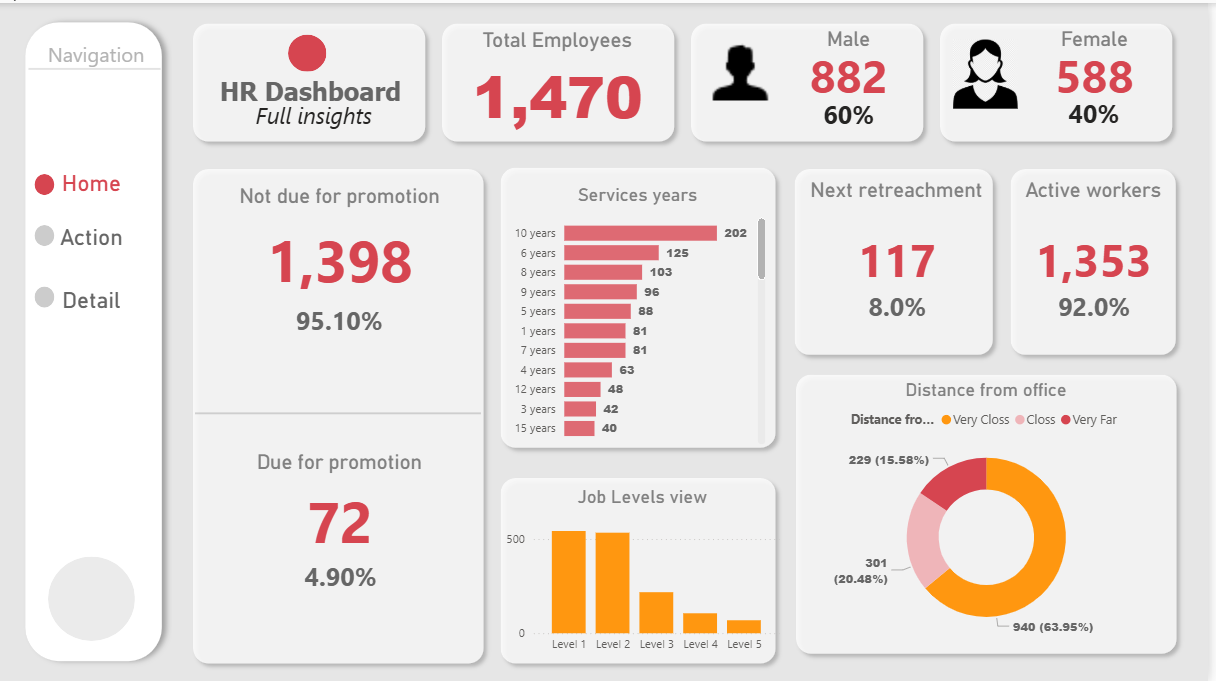

This screenshot's page, from the dashboard's own definition file:
{"tool":"powerbi","page":{"name":"Home","canvas":[1280,720],"ordinal":0},"visuals":[{"type":"shape","box":[16.5,9.6,166.5,699.2],"z":0},{"type":"shape","box":[195.4,12.4,264.3,143.1],"z":1000},{"type":"shape","box":[459.7,12.4,264.3,143.1],"z":2000},{"type":"shape","box":[724,12.4,264.3,143.1],"z":3000},{"type":"shape","box":[988.2,12.4,264.3,143.1],"z":4000},{"type":"shape","box":[195.4,166.5,326.2,542.3],"z":5000},{"type":"shape","box":[521.6,166.2,309.7,315.2],"z":6000},{"type":"shape","box":[521.6,494.1,309.7,214.7],"z":7000},{"type":"shape","box":[834.8,384.2,421.6,314.1],"z":8000},{"type":"shape","box":[833.6,166.7,228.3,215],"z":9000},{"type":"shape","box":[1063.1,166.7,193.3,215],"z":10000},{"type":"textbox","box":[209.7,71.2,238.7,51.4],"z":11000},{"type":"textbox","box":[36.9,33,130.5,51.4],"z":12000},{"type":"textbox","box":[209.7,97.6,251.9,55.4],"z":13000},{"type":"shape","box":[305.9,33,40.9,39.6],"z":14000},{"type":"card","title":"Total Employees","fields":{"Values":["All Measures.Total Emp"]},"box":[468,27.5,246.4,112.9],"z":15000},{"type":"card","title":"Male","fields":{"Values":["All Measures.Male"]},"box":[814.8,26.2,170.7,75.7],"z":16000},{"type":"card","fields":{"Values":["All Measures.Male %"]},"box":[834.1,90.8,132.1,55.1],"z":17000},{"type":"card","title":"Female","fields":{"Values":["All Measures.Female"]},"box":[1068.7,26.2,183.1,75.7],"z":18000},{"type":"card","fields":{"Values":["All Measures.Female %"]},"box":[1083.9,90.8,152.8,53.7],"z":19000},{"type":"image","box":[736.3,26.2,95,90.8],"z":20000},{"type":"actionButton","title":"Home","box":[27.8,176.4,140.1,30.2],"z":21000},{"type":"image","box":[1004.7,33,79.8,84],"z":22000},{"type":"actionButton","title":"Action","box":[27.7,233.4,139.8,56.7],"z":23000},{"type":"card","title":"Active workers","fields":{"Values":["All Measures.On service"]},"box":[1058.3,186,203,142.6],"z":24000},{"type":"actionButton","title":"Detail","box":[27.7,300.7,139.8,58],"z":25000},{"type":"card","fields":{"Values":["All Measures.% Active workers"]},"box":[1082.4,296,153.4,53.2],"z":26000},{"type":"card","title":"Next retreachment","fields":{"Values":["All Measures.Due for retirment"]},"box":[843.2,186,215,142.6],"z":27000},{"type":"card","fields":{"Values":["All Measures.%Due for retirment"]},"box":[865,296,171.5,53.2],"z":28000},{"type":"columnChart","title":"Job Levels view","fields":{"Category":["HR Analytics Data.Job Level"],"Y":["All Measures.Total Emp"]},"box":[531.3,512,300,185.8],"z":29000},{"type":"barChart","title":"Services years","fields":{"Category":["HR Analytics Data.Total working Years"],"Y":["All Measures.Total Emp"]},"box":[536.4,192.1,280.3,280.3],"z":30000},{"type":"donutChart","title":"Distance from office","fields":{"Category":["HR Analytics Data.Distance from office"],"Y":["All Measures.Total Emp"]},"box":[840.8,399.9,408.3,282.7],"z":31000},{"type":"card","title":"Not due for promotion","fields":{"Values":["All Measures.Not Due"]},"box":[207.8,192.1,303.2,130.5],"z":32000},{"type":"card","title":"Due for promotion","fields":{"Values":["All Measures.Due for promotion"]},"box":[209,473.8,303.2,119.6],"z":33000},{"type":"shape","box":[206.6,427.7,303.2,14.5],"z":34000},{"type":"card","fields":{"Values":["All Measures.% Not due for promotion"]},"box":[283.5,309.7,152.8,53.7],"z":35000},{"type":"card","fields":{"Values":["All Measures.% Due for promotion"]},"box":[285.1,582.5,152.2,53.2],"z":36000},{"type":"shape","box":[36.9,180.7,21.1,22.4],"z":37000},{"type":"shape","box":[36.9,236,21.1,22.4],"z":38000},{"type":"shape","box":[36.9,300.7,21.1,22.4],"z":39000},{"type":"shape","box":[51.4,586.8,92.3,89.7],"z":40000},{"type":"shape","box":[30.2,61.6,140.1,15.7],"z":41000}]}

Visuals, with their boxes in screenshot pixels (x1, y1, x2, y2), scaled from the page's 1280x720 canvas onto the 1216x681 screenshot:
shape: 16:9:174:670
shape: 186:12:437:147
shape: 437:12:688:147
shape: 688:12:939:147
shape: 939:12:1190:147
shape: 186:157:496:670
shape: 496:157:790:455
shape: 496:467:790:670
shape: 793:363:1194:660
shape: 792:158:1009:361
shape: 1010:158:1194:361
textbox: 199:67:426:116
textbox: 35:31:159:80
textbox: 199:92:439:145
shape: 291:31:329:69
"Total Employees" card: 445:26:679:133
"Male" card: 774:25:936:96
card - All Measures.Male %: 792:86:918:138
"Female" card: 1015:25:1189:96
card - All Measures.Female %: 1030:86:1175:137
image: 699:25:790:111
"Home" actionButton: 26:167:160:195
image: 954:31:1030:111
"Action" actionButton: 26:221:159:274
"Active workers" card: 1005:176:1198:311
"Detail" actionButton: 26:284:159:339
card - All Measures.% Active workers: 1028:280:1174:330
"Next retreachment" card: 801:176:1005:311
card - All Measures.%Due for retirment: 822:280:985:330
"Job Levels view" columnChart: 505:484:790:660
"Services years" barChart: 510:182:776:447
"Distance from office" donutChart: 799:378:1187:646
"Not due for promotion" card: 197:182:485:305
"Due for promotion" card: 199:448:487:561
shape: 196:405:484:418
card - All Measures.% Not due for promotion: 269:293:414:344
card - All Measures.% Due for promotion: 271:551:415:601
shape: 35:171:55:192
shape: 35:223:55:244
shape: 35:284:55:306
shape: 49:555:137:640
shape: 29:58:162:73
